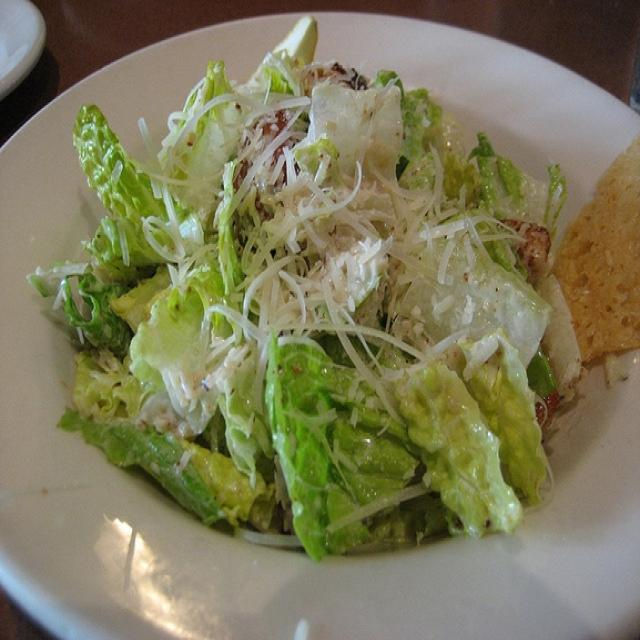蔬菜料理: (18, 10, 631, 599)
